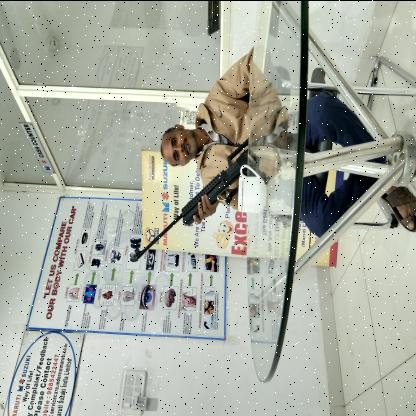rifle: (134, 134, 250, 260)
